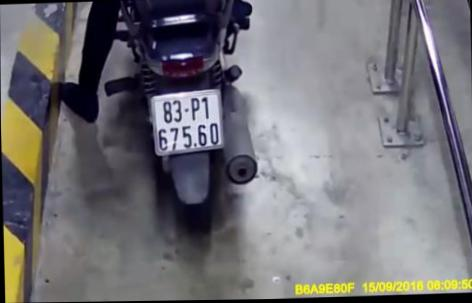LP: (149, 86, 226, 156)
